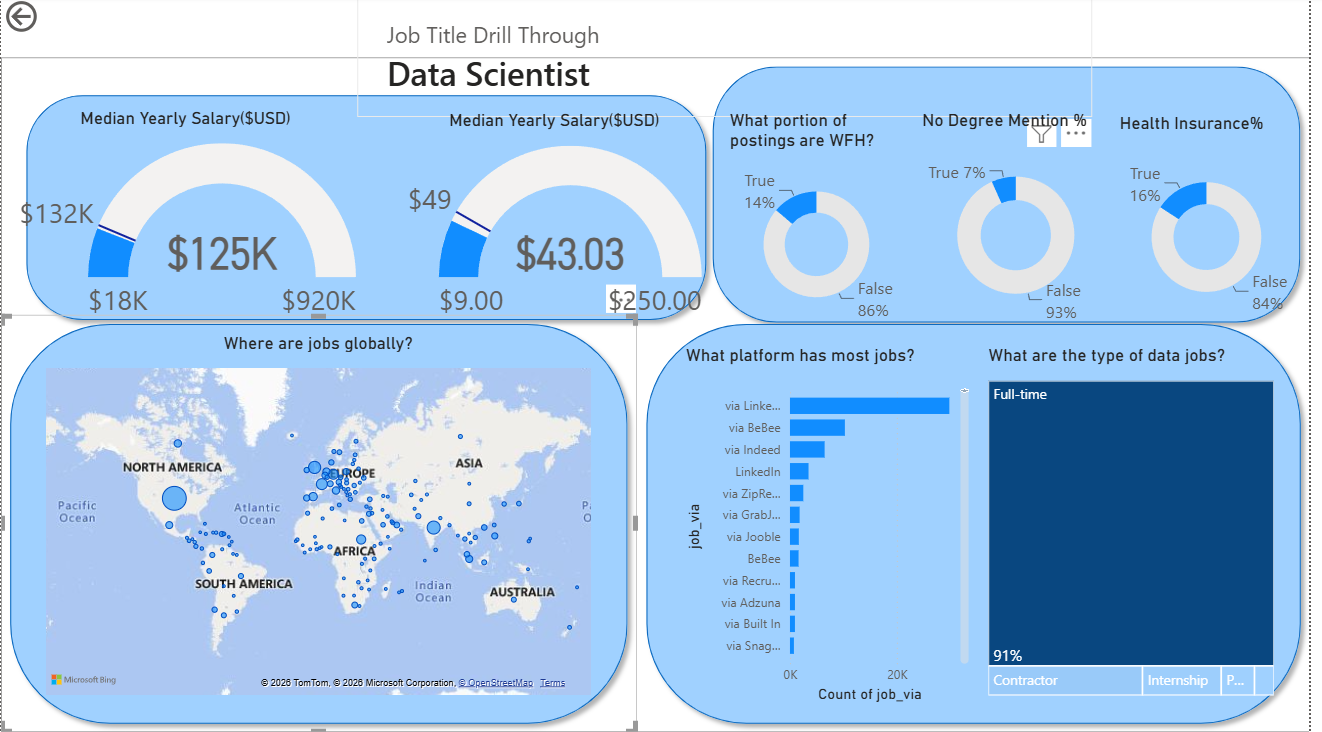

The page's visual inventory and layout, read from the dashboard file:
{"tool":"powerbi","page":{"name":"Job Title Drill Through","canvas":[1280,720],"ordinal":1},"visuals":[{"type":"group","id":"g1","title":"Background","box":[0,59.8,1280,660.9],"z":0},{"type":"shape","box":[15.3,87.6,683.1,237.9],"z":0,"group":"g1"},{"type":"cardVisual","fields":{"Data":["Min(job_postings_flat.job_title_short)1"]},"box":[348.5,0,719,118.6],"z":1000},{"type":"shape","box":[0,311.6,621.9,409],"z":1000,"group":"g1"},{"type":"actionButton","box":[0,0,100,40],"z":2000},{"type":"shape","box":[687.3,59.8,592.7,268.5],"z":2000,"group":"g1"},{"type":"gauge","title":"Median Yearly Salary($USD)","fields":{"Y":["Median(job_postings_flat.salary_year_avg)"],"MinValue":["Min(job_postings_flat.salary_year_avg)"],"MaxValue":["Max(job_postings_flat.salary_year_avg)1"],"TargetValue":["Avg(job_postings_flat.salary_year_avg)2"]},"box":[0,108.8,360.7,216.4],"z":3000},{"type":"shape","box":[621.9,311.6,658.1,409],"z":3000,"group":"g1"},{"type":"gauge","title":"Median Yearly Salary($USD)","fields":{"Y":["Median(job_postings_flat.salary_hour_avg)"],"MinValue":["Min(job_postings_flat.salary_hour_avg)"],"MaxValue":["Max(job_postings_flat.salary_hour_avg)"],"TargetValue":["Avg(job_postings_flat.salary_hour_avg)"]},"box":[360.7,111.3,360.7,214],"z":4000},{"type":"donutChart","title":"What portion of postings are WFH?","fields":{"Category":["job_postings_flat.job_work_from_home"],"Y":["CountNonNull(job_postings_flat.job_work_from_home)"]},"box":[708,111.3,179.8,214],"z":5000},{"type":"donutChart","title":"Health Insurance%","fields":{"Y":["CountNonNull(job_postings_flat.job_health_insurance)"],"Category":["job_postings_flat.job_health_insurance"]},"box":[1089.5,113.7,179.8,214],"z":6000},{"type":"donutChart","title":"No Degree Mention %","fields":{"Y":["CountNonNull(job_postings_flat.job_no_degree_mention)"],"Category":["job_postings_flat.job_no_degree_mention"]},"box":[896.3,111.3,193.2,215.2],"z":7000},{"type":"map","title":"Where are jobs globally?","fields":{"Category":["job_postings_flat.job_country"],"Size":["CountNonNull(job_postings_flat.job_title_short)"]},"box":[39.1,328.9,542.9,359.5],"z":8000},{"type":"treemap","title":"What are the type of data jobs?","fields":{"Group":["job_postings_flat.job_schedule_type"],"Values":["CountNonNull(job_postings_flat.job_schedule_type)"]},"box":[961.4,340.9,289.4,347.8],"z":9000},{"type":"barChart","title":"What platform has most jobs?","fields":{"Category":["job_postings_flat.job_via"],"Y":["CountNonNull(job_postings_flat.job_via)"]},"box":[665,340.9,286.6,354.8],"z":10000}]}

Visuals, with their boxes in screenshot pixels (x1, y1, x2, y2), scaled from the page's 1280x720 canvas onto the 1322x732 screenshot:
"Background" group: [0, 61, 1321, 731]
shape: [16, 89, 721, 331]
cardVisual - Min(job_postings_flat.job_title_short)1: [360, 0, 1103, 121]
shape: [0, 317, 642, 731]
actionButton: [0, 0, 103, 41]
shape: [710, 61, 1321, 334]
"Median Yearly Salary($USD)" gauge: [0, 111, 373, 331]
shape: [642, 317, 1321, 731]
"Median Yearly Salary($USD)" gauge: [373, 113, 745, 331]
"What portion of postings are WFH?" donutChart: [731, 113, 917, 331]
"Health Insurance%" donutChart: [1125, 116, 1311, 333]
"No Degree Mention %" donutChart: [926, 113, 1125, 332]
"Where are jobs globally?" map: [40, 334, 601, 700]
"What are the type of data jobs?" treemap: [993, 347, 1292, 700]
"What platform has most jobs?" barChart: [687, 347, 983, 707]
